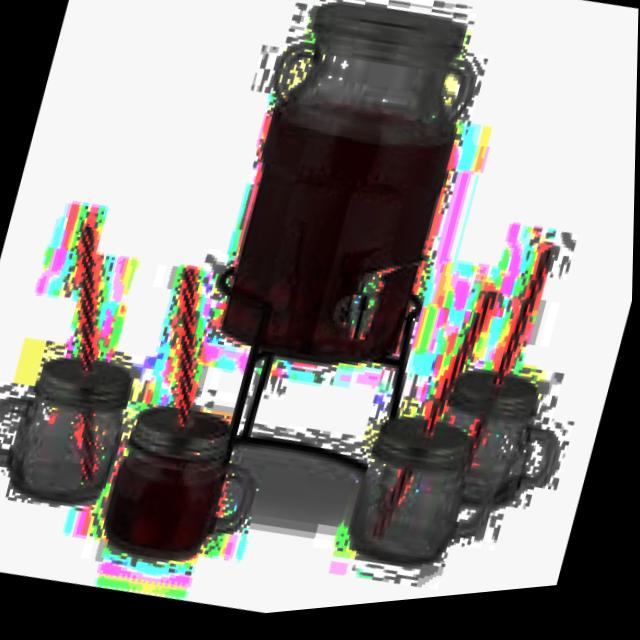drink: (202, 0, 496, 391)
